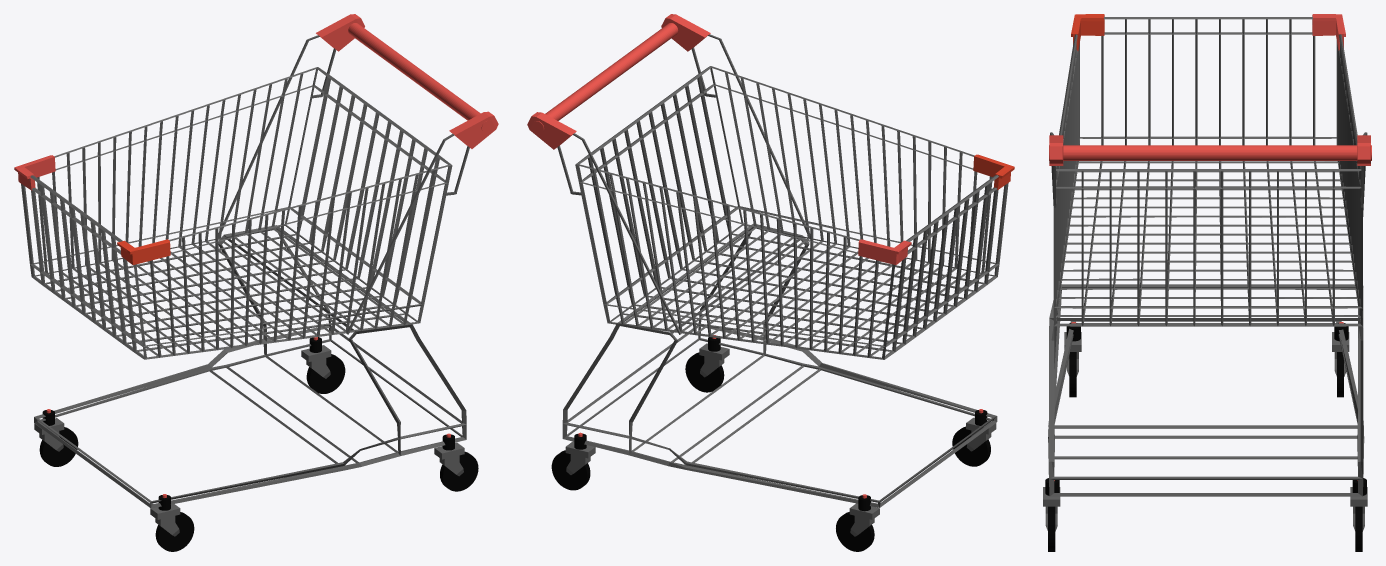
File: ShoppingCart.fbx
3 views of the same model, side by side, from view 1: azimuth 30°, elevation 25°; view 2: azimuth 150°, elevation 25°; view 3: azimuth 270°, elevation 25° (orthographic). The views are drawn at different scales.
Visible parts, largest first — view 1: Cart Top, Cart Bottom, Cylinder, Cube, Wheel, Wheel.002, Wheel.001, Red bumper 1, Cube.001, Cube.002, Wheel.003, Cube.003 (+4 smaller); view 2: Cart Top, Cart Bottom, Cylinder, Wheel.001, Wheel, Cube.003, Wheel.003, Cube.002, Red bumper 2, Cube.001, Cube, Wheel.002 (+4 smaller); view 3: Cart Top, Cart Bottom, Cylinder, Red bumper 1, Red bumper 2, Cube.001, Cube.002.
Boxes of the visible parts, bbox=[...] form: Cart Top: bbox=[21, 67, 452, 359]; Cart Bottom: bbox=[34, 225, 466, 508]; Cylinder: bbox=[348, 23, 493, 133]; Cube: bbox=[346, 133, 469, 334]; Wheel: bbox=[440, 451, 478, 491]; Wheel.002: bbox=[155, 512, 194, 551]; Wheel.001: bbox=[306, 354, 345, 393]; Red bumper 1: bbox=[117, 239, 170, 264]; Cube.001: bbox=[449, 111, 498, 148]; Cube.002: bbox=[316, 14, 364, 51]; Wheel.003: bbox=[39, 427, 78, 466]; Cube.003: bbox=[218, 35, 336, 235]; Cart Top: bbox=[575, 66, 1008, 359]; Cart Bottom: bbox=[562, 223, 997, 507]; Cylinder: bbox=[532, 23, 678, 133]; Wheel.001: bbox=[551, 450, 590, 490]; Wheel: bbox=[685, 352, 724, 392]; Cube.003: bbox=[557, 133, 681, 334]; Wheel.003: bbox=[836, 512, 874, 551]; Cube.002: bbox=[527, 112, 576, 149]; Red bumper 2: bbox=[858, 239, 911, 265]; Cube.001: bbox=[661, 14, 710, 51]; Cube: bbox=[691, 34, 810, 235]; Wheel.002: bbox=[952, 426, 990, 466]; Cart Top: bbox=[1053, 17, 1362, 326]; Cart Bottom: bbox=[1048, 284, 1364, 496]; Cylinder: bbox=[1049, 145, 1371, 160]; Red bumper 1: bbox=[1071, 14, 1104, 50]; Red bumper 2: bbox=[1312, 14, 1345, 50]; Cube.001: bbox=[1049, 135, 1063, 165]; Cube.002: bbox=[1357, 135, 1370, 165].
Bounding box in the file's own units: 85.48 × 83.73 × 58.94.
